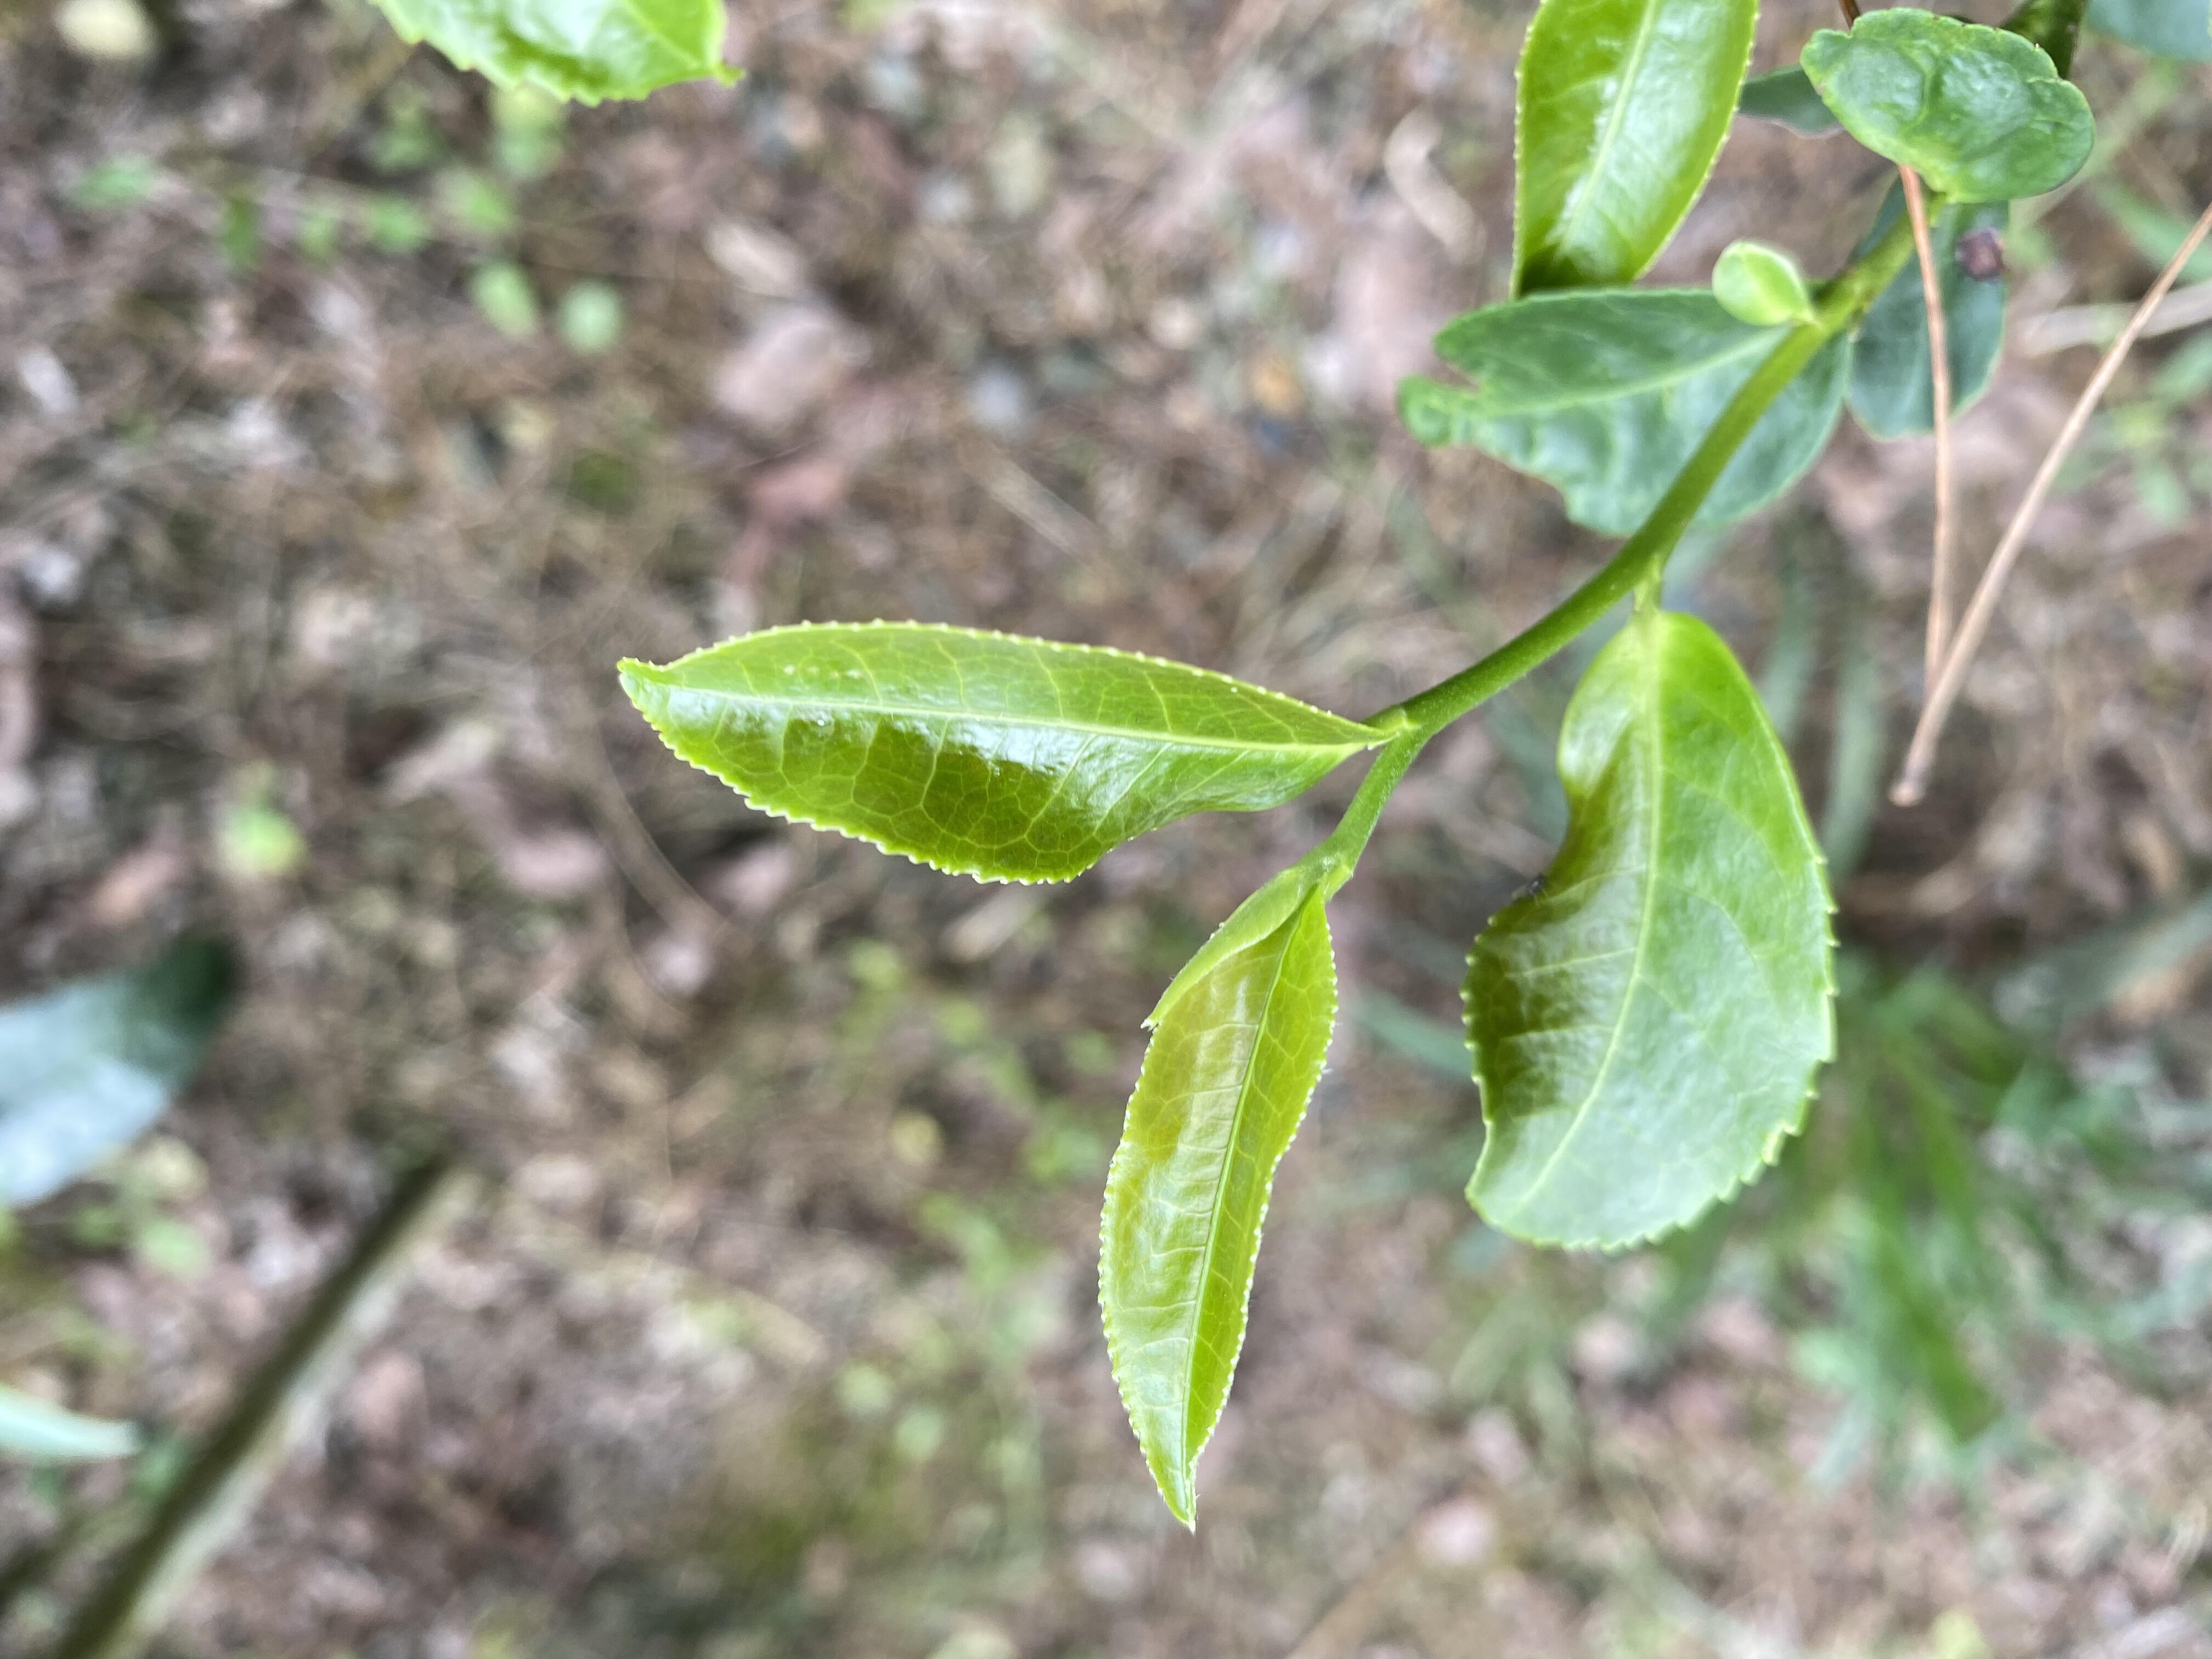chihuo_high: (1397, 288, 1851, 544)
healthy: (1451, 612, 1844, 1260), (613, 613, 1379, 892), (1092, 903, 1341, 1532), (1507, 2, 1766, 303)
tanju_high: (1848, 164, 2015, 446)
